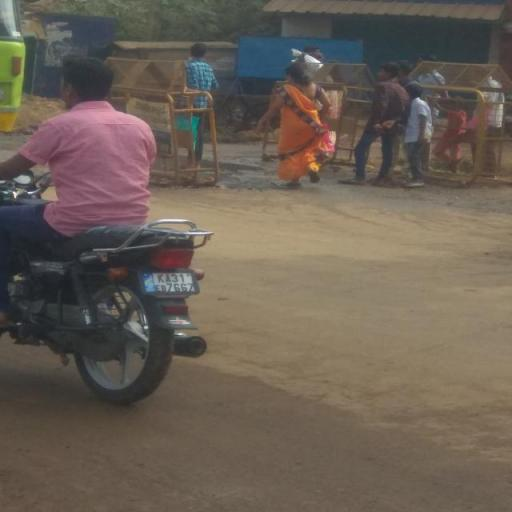bike: (2, 50, 209, 410)
numberplate: (140, 268, 202, 296)
withouthelmet: (61, 54, 114, 105)
